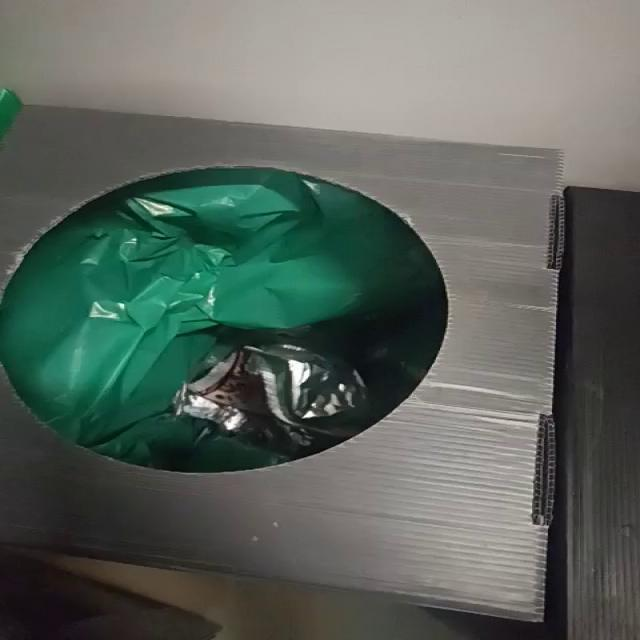bin: (1, 107, 563, 622)
metal: (172, 345, 369, 462)
